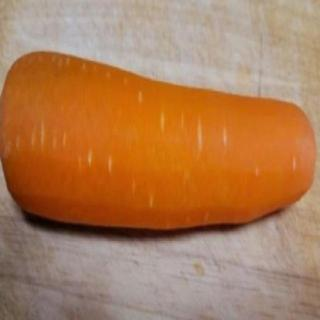carrot: (2, 50, 316, 237)
